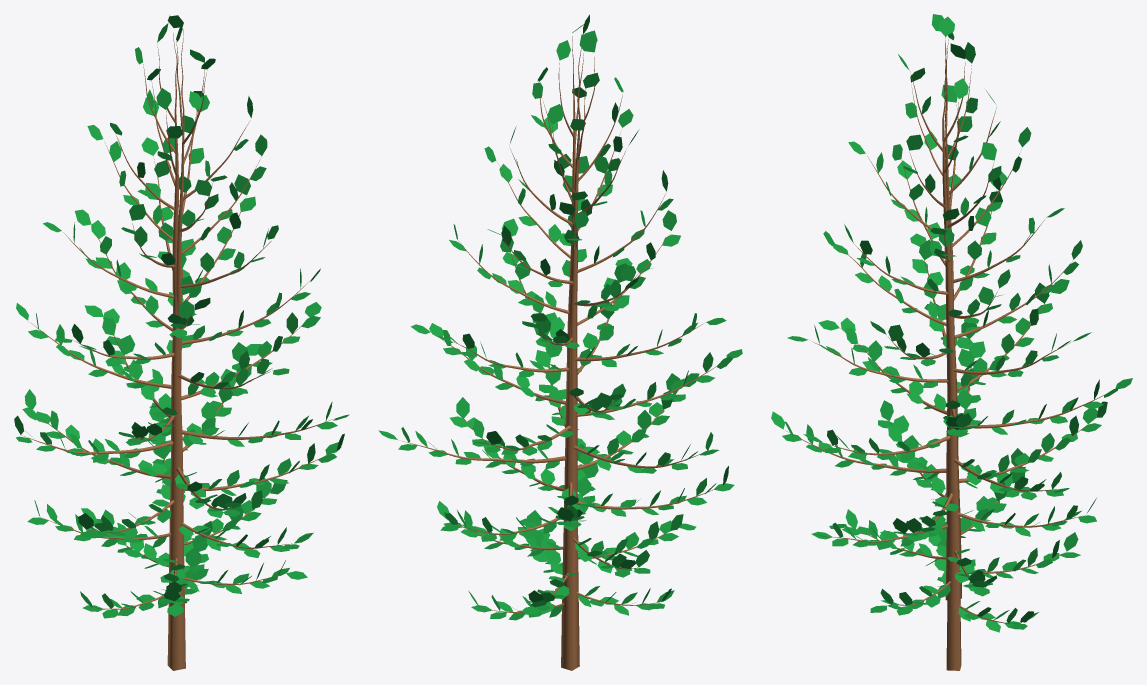
File: saplingTree.obj
The picture shows the model from 3 angles, left to right: view 1: azimuth 30°, elevation 25°; view 2: azimuth 150°, elevation 25°; view 3: azimuth 270°, elevation 25°; orthographic projection. The views are drawn at different scales.
Parts seen in each view (by area): view 1: leaves, tree_CUtree; view 2: leaves, tree_CUtree; view 3: leaves, tree_CUtree.
Part boxes in pixels (x1,y1,x2,y2): leaves: (14, 15, 349, 618); tree_CUtree: (21, 29, 335, 670); leaves: (378, 14, 742, 620); tree_CUtree: (402, 36, 721, 670); leaves: (771, 14, 1132, 632); tree_CUtree: (785, 37, 1104, 670).
Size of the model in its own units: 214 by 440 by 222.
